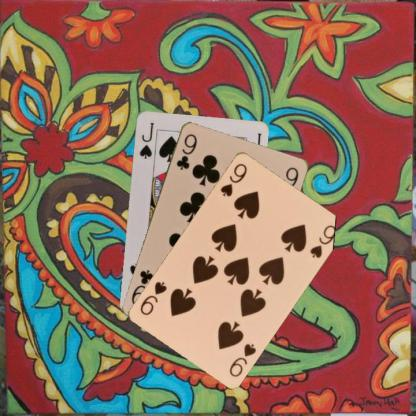9c: (174, 131, 198, 171)
9s: (226, 340, 258, 378), (218, 160, 249, 198)
Js: (136, 120, 156, 160)
